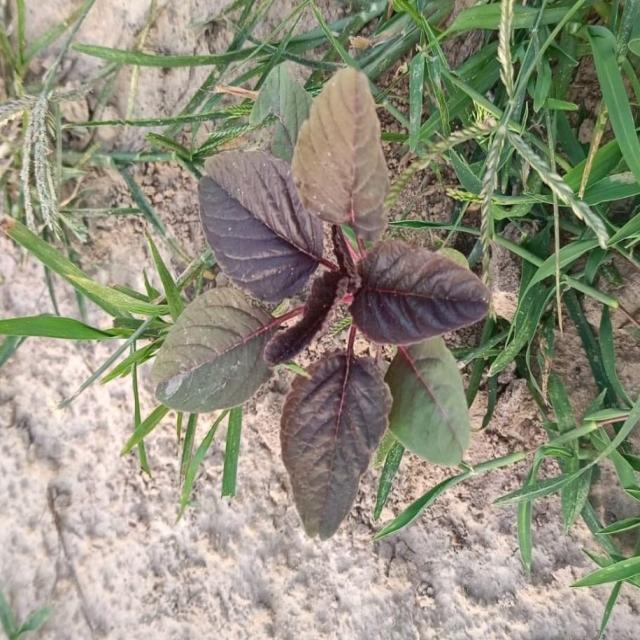plant: (152, 66, 490, 537)
